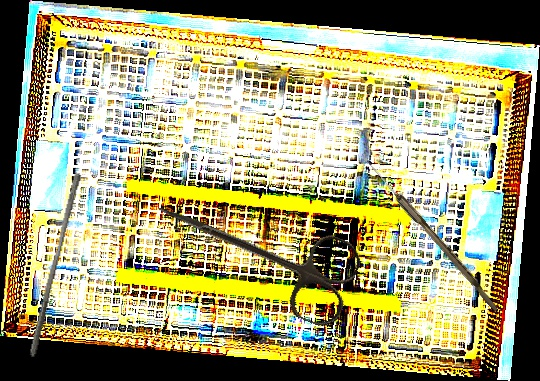Iris Scissors: (140, 171, 367, 332)
Pusher: (29, 171, 82, 359)
Surgical Spoon: (358, 154, 503, 312)
